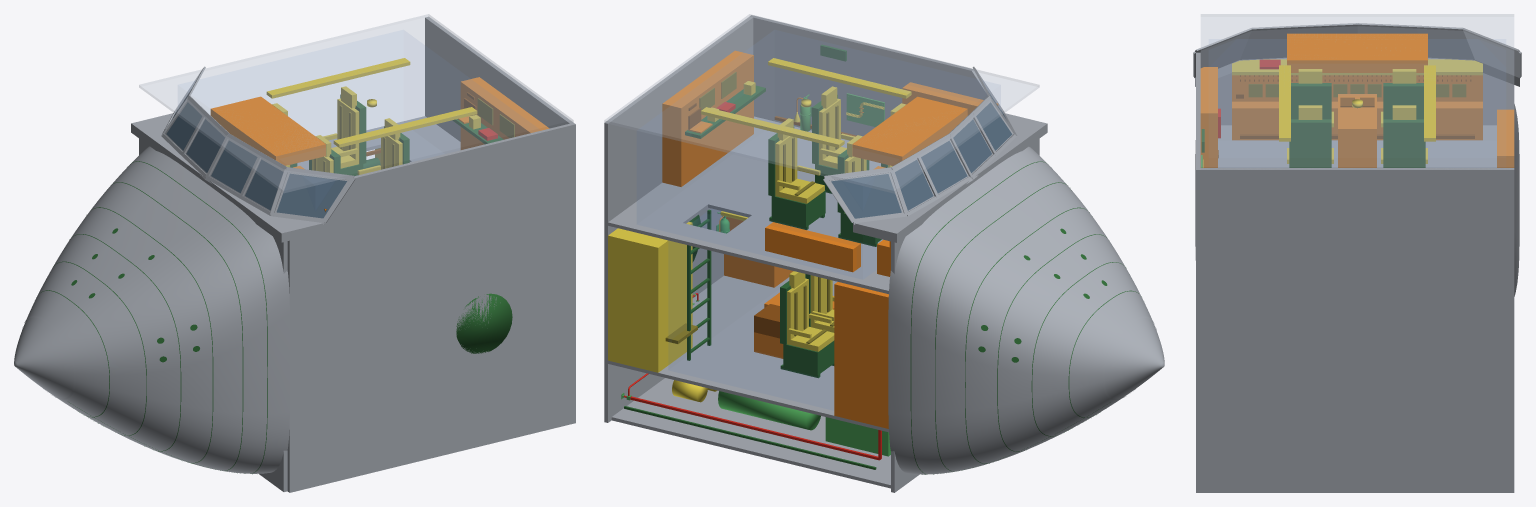
File: mekik_kabini.glb
3 views of the same model, side by side, from view 1: azimuth 30°, elevation 25°; view 2: azimuth 150°, elevation 25°; view 3: azimuth 270°, elevation 25° (orthographic). The views are drawn at different scales.
Parts seen in each view (by area): view 1: Iskele_Duvari_Sol, Burun_Govdesi_Ust, Tavan_Seffaf, Burun_Govdesi_Karin, Arka_Perde, Tavan_Paneli_O, Burun_Kapagi_RCC, Kas_Rafi, Arka_Ucus_Istasyonu, Yan_Giris_Kapagi, On_Pencere_Cercevesi_1, Burun_Karo_Derzleri (+17 smaller); view 2: Burun_Govdesi_Ust, Tavan_Seffaf, Iskele_Duvari_Sol, Arka_Perde, Orta_Guverte_Zemini, Burun_Govdesi_Karin, Tuvalet_WCS, Alt_Bolme_Tabani, Aviyonik_Bolmesi_2, Ucus_Guvertesi_Zemini_1, Arka_Ucus_Istasyonu, Tavan_Paneli_O (+40 smaller); view 3: Arka_Perde, Tavan_Seffaf, Tavan_Paneli_O, On_Konsol, Gosterge_Paneli_F, Orta_Konsol, Ucus_Guvertesi_Zemini_1, Iskele_Duvari_Sol, Ucus_Guvertesi_Zemini_2, Koltuk_GorevUzmani_1_Sirt_Iskeleti, Koltuk_GorevUzmani_2_Sirt_Iskeleti, On_Perde (+21 smaller).
Part boxes in pixels (x1,y1,x2,y2): Iskele_Duvari_Sol: (287, 122, 575, 492); Burun_Govdesi_Ust: (25, 146, 289, 414); Tavan_Seffaf: (139, 14, 573, 192); Burun_Govdesi_Karin: (54, 384, 289, 473); Arka_Perde: (425, 16, 573, 141); Tavan_Paneli_O: (210, 96, 325, 165); Burun_Kapagi_RCC: (14, 317, 73, 398); Kas_Rafi: (131, 113, 325, 242); Arka_Ucus_Istasyonu: (460, 77, 549, 149); Yan_Giris_Kapagi: (456, 293, 512, 353); On_Pencere_Cercevesi_1: (274, 172, 349, 219); Burun_Karo_Derzleri: (41, 161, 267, 474); Burun_Govdesi_Ust: (888, 146, 1153, 414); Tavan_Seffaf: (604, 14, 1039, 193); Iskele_Duvari_Sol: (750, 15, 1037, 136); Arka_Perde: (604, 16, 753, 422); Orta_Guverte_Zemini: (608, 275, 888, 432); Burun_Govdesi_Karin: (888, 385, 1124, 474); Tuvalet_WCS: (608, 222, 692, 372); Alt_Bolme_Tabani: (611, 378, 890, 488); Aviyonik_Bolmesi_2: (834, 282, 888, 428); Ucus_Guvertesi_Zemini_1: (652, 116, 882, 243); Arka_Ucus_Istasyonu: (662, 50, 753, 186); Tavan_Paneli_O: (852, 96, 967, 165); Arka_Perde: (1200, 168, 1514, 492); Tavan_Seffaf: (1201, 14, 1513, 169); Tavan_Paneli_O: (1287, 33, 1427, 72); On_Konsol: (1232, 101, 1482, 140); Gosterge_Paneli_F: (1232, 75, 1482, 101); Orta_Konsol: (1338, 94, 1376, 167); Ucus_Guvertesi_Zemini_1: (1218, 125, 1383, 167); Iskele_Duvari_Sol: (1196, 52, 1200, 492); Ucus_Guvertesi_Zemini_2: (1425, 125, 1496, 167); Koltuk_GorevUzmani_1_Sirt_Iskeleti: (1289, 119, 1331, 167); Koltuk_GorevUzmani_2_Sirt_Iskeleti: (1383, 119, 1425, 167); On_Perde: (1218, 58, 1514, 125).
Size of the model in its own units: 7.76 by 4.59 by 4.19.
